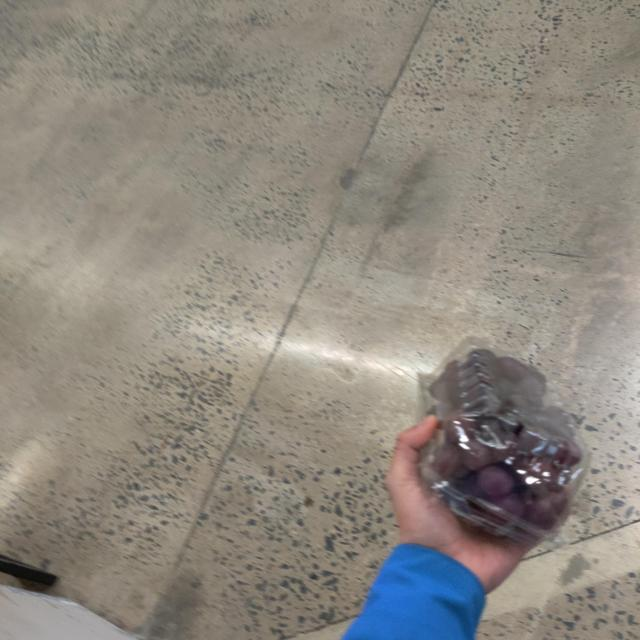Grapes: (398, 324, 591, 550)
